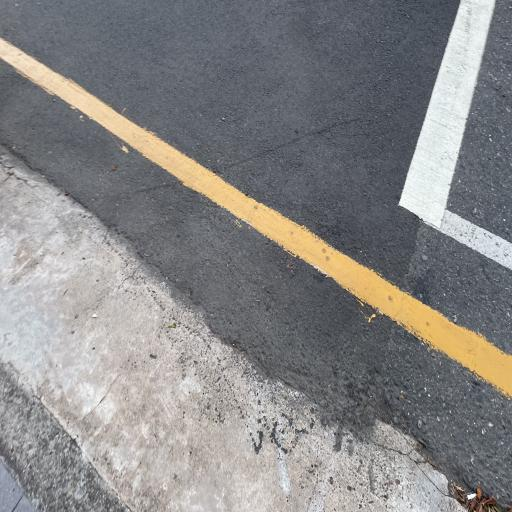yellowline: (0, 41, 512, 400)
